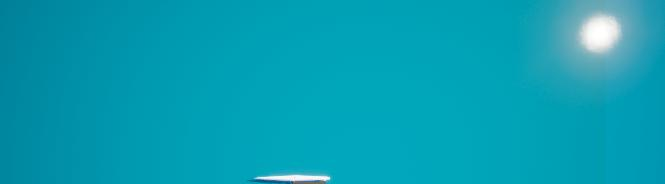land_base: (554, 0, 659, 73)
